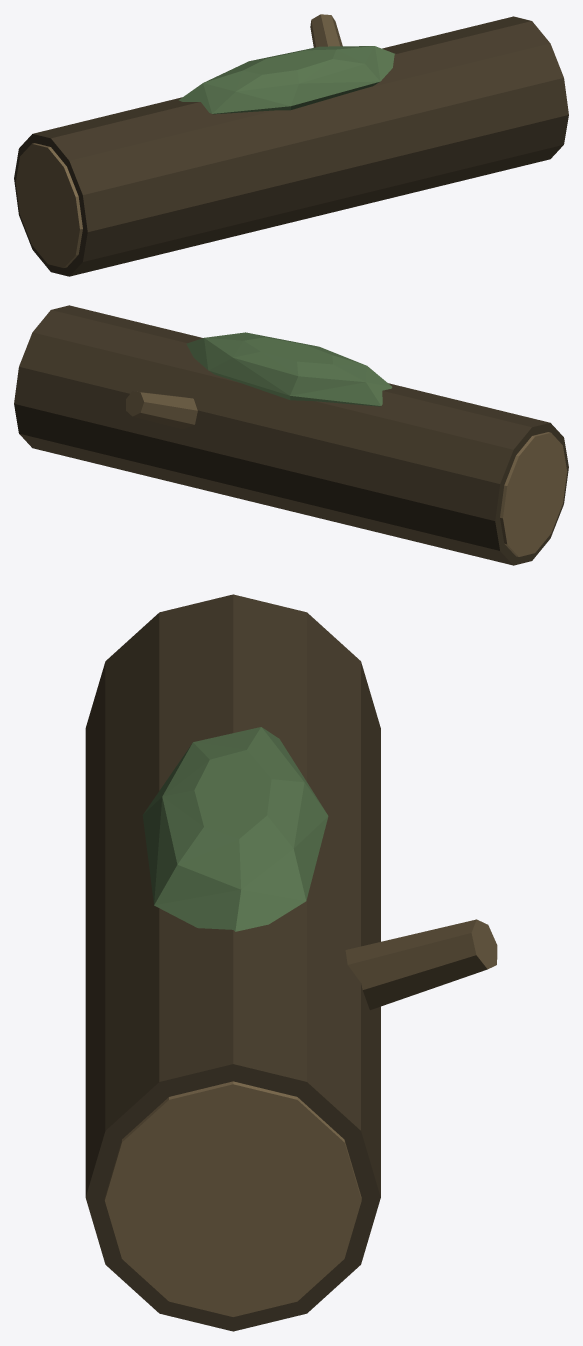
File: fallen-log.glb
The picture shows the model from 3 angles, top to bottom: view 1: azimuth 30°, elevation 25°; view 2: azimuth 150°, elevation 25°; view 3: azimuth 270°, elevation 25°; orthographic projection. The views are drawn at different scales.
Parts seen in each view (by area): view 1: fallen-log__body; view 2: fallen-log__body; view 3: fallen-log__body.
Part boxes in pixels (x1=…): fallen-log__body: x1=14, y1=14, x2=568, y2=276; fallen-log__body: x1=14, y1=305, x2=568, y2=565; fallen-log__body: x1=85, y1=594, x2=497, y2=1331.
Size of the model in its own units: 1.3 by 0.385 by 0.4742.
